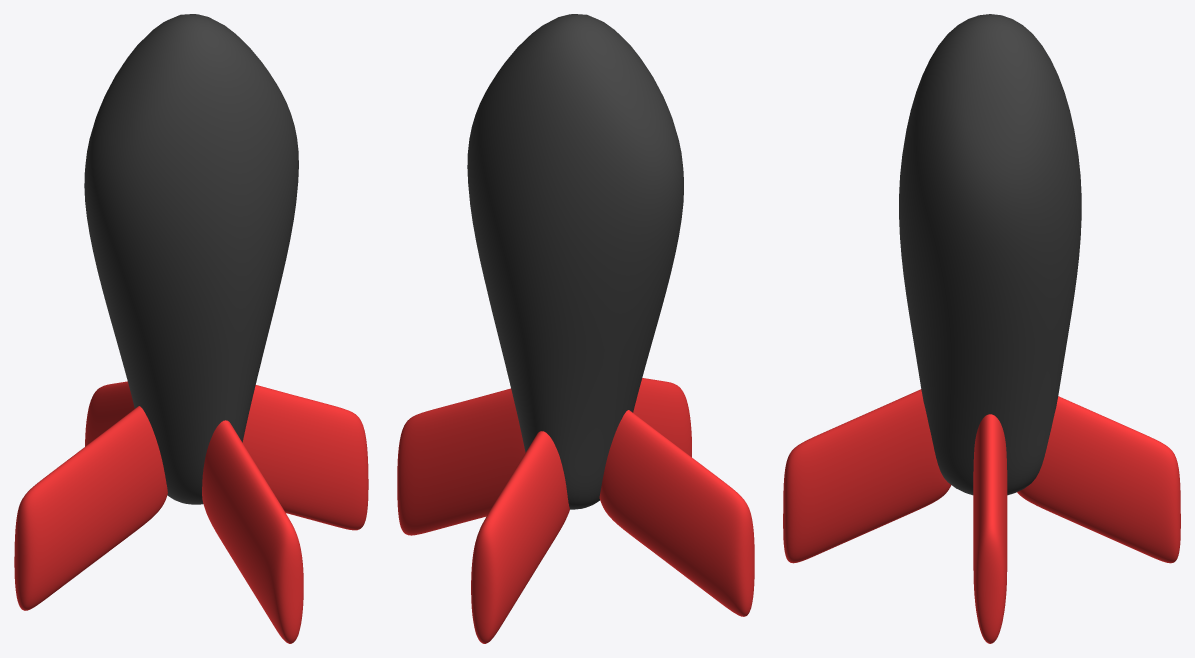
File: Ammo-2.fbx
3 renders of one model, left to right at view 1: azimuth 30°, elevation 25°; view 2: azimuth 150°, elevation 25°; view 3: azimuth 270°, elevation 25°, orthographic. The views are drawn at different scales.
Parts seen in each view (by area): view 1: Ammo-2; view 2: Ammo-2; view 3: Ammo-2.
Boxes of the visible parts, <box> form: Ammo-2: <box>14,14,368,643</box>; Ammo-2: <box>397,14,754,643</box>; Ammo-2: <box>783,14,1180,643</box>.
Size of the model in its own units: 73.13 by 111 by 73.13.
